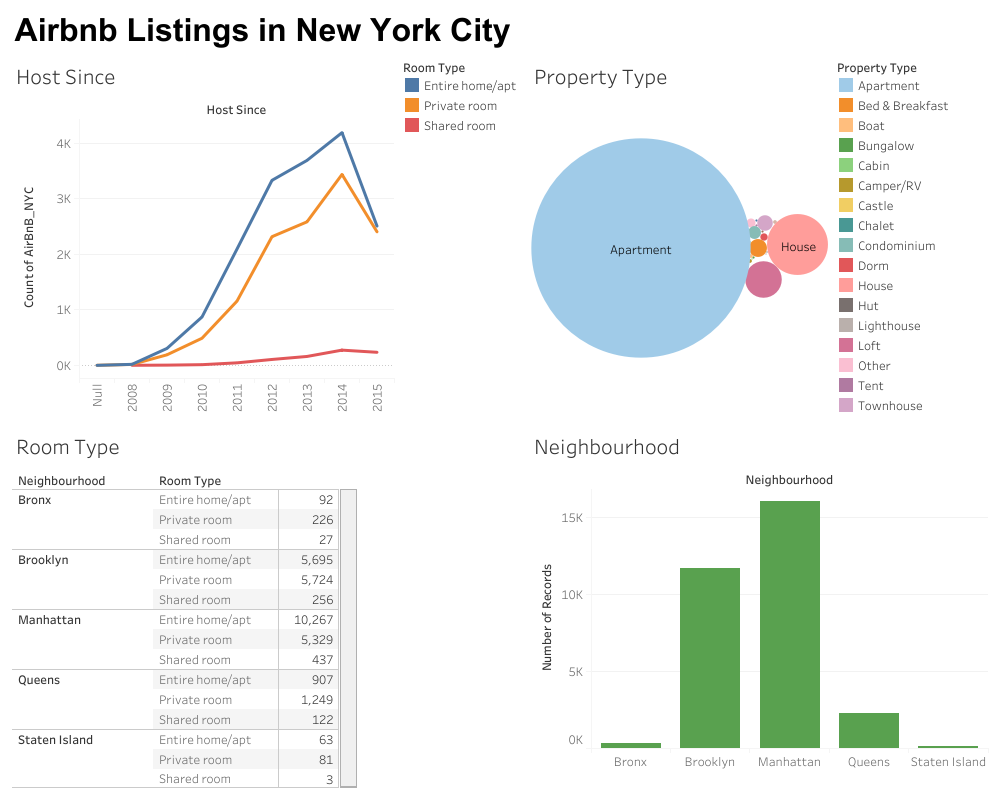

The page's visual inventory and layout, read from the dashboard file:
{"tool":"tableau","page":{"name":"Airbnb","canvas":[1000,800],"ordinal":0},"visuals":[{"type":"title","box":[8,8,984,44]},{"type":"worksheet","title":"Host Since","mark":"Automatic","rows":["AirBnB!NYC_CF666E423AFE4296A577C54E5D8FCC76"],"cols":["Host Since"],"box":[8,52,390,370]},{"type":"legend","title":"Host Since","param":"[federated.1rumh1g1ol9blx18dzzps16v7j8i].[none:Room Type:nk]","box":[398,52,128,87]},{"type":"worksheet","title":"Property Type","mark":"Circle","box":[526,52,306,370]},{"type":"legend","title":"Property Type","param":"[federated.1rumh1g1ol9blx18dzzps16v7j8i].[none:Property Type:nk]","box":[832,52,160,370]},{"type":"worksheet","title":"Room Type","mark":"Automatic","rows":["Neighbourhood","Room Type"],"box":[8,422,390,370]},{"type":"worksheet","title":"Neighbourhood","mark":"Automatic","rows":["Number of Records"],"cols":["Neighbourhood"],"box":[526,422,466,370]}]}

Visuals, with their boxes in screenshot pixels (x1, y1, x2, y2), scaled from the page's 1000x800 canvas onto the 999x799 screenshot:
title: (left=8, top=8, right=991, bottom=52)
"Host Since" worksheet: (left=8, top=52, right=398, bottom=421)
"Host Since" legend: (left=398, top=52, right=525, bottom=139)
"Property Type" worksheet (Circle marks): (left=525, top=52, right=831, bottom=421)
"Property Type" legend: (left=831, top=52, right=991, bottom=421)
"Room Type" worksheet: (left=8, top=421, right=398, bottom=791)
"Neighbourhood" worksheet: (left=525, top=421, right=991, bottom=791)
